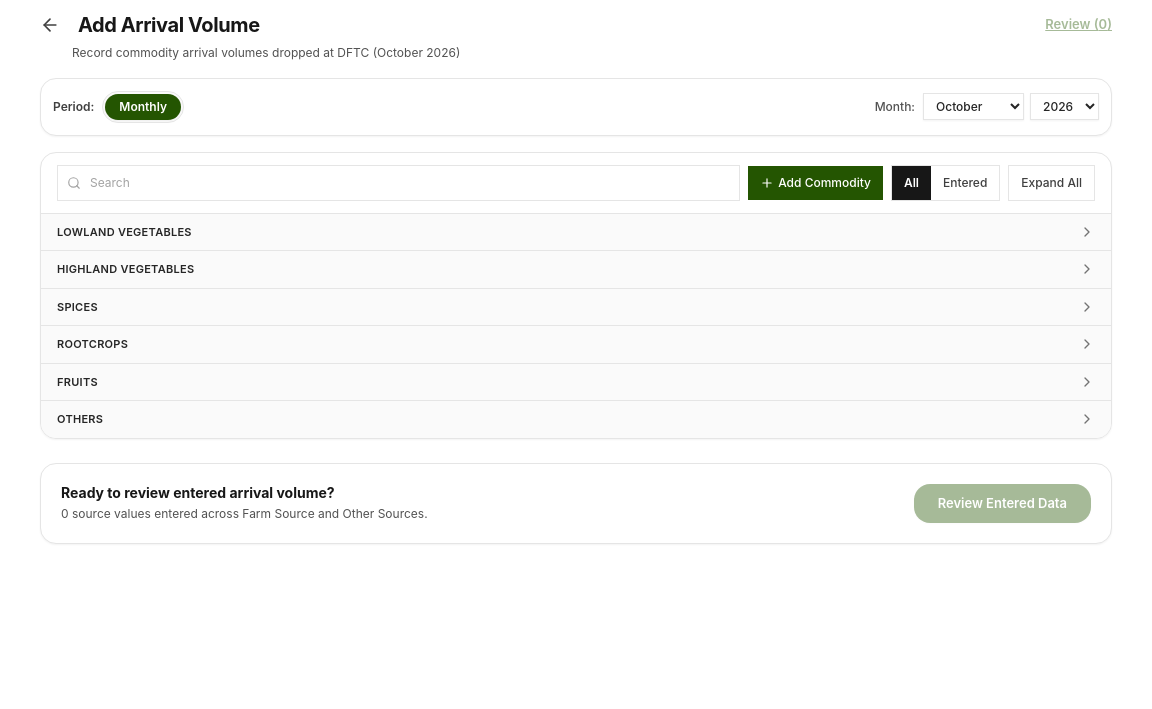
Test: DFTCArrivalInput Unified Entry & Excel-Aligned Review › counts filled source cells, not commodity rows, on the review summary
The width and height of the screenshot is (1152, 709).
Click the button "Lowland Vegetables". click: point(124, 232)
box: x1=41 y1=214 x2=1111 y2=250
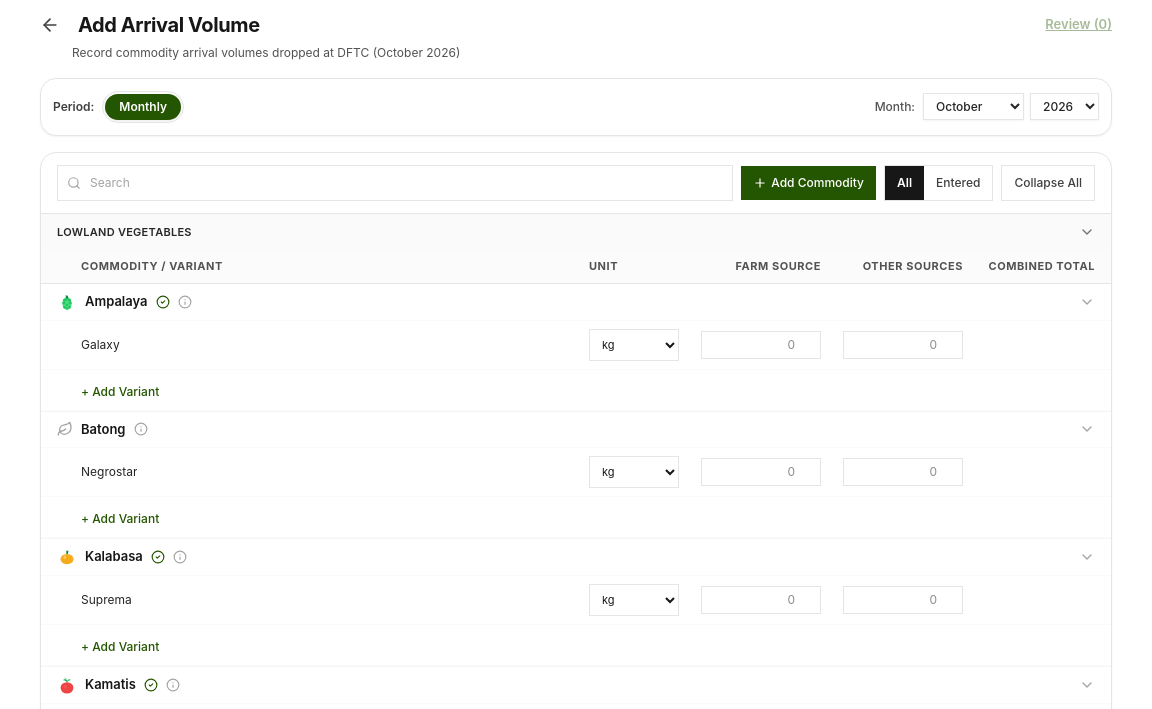
Type "1000" into the 1st number field with placeholder "0". click: point(761, 344)
box: x1=701 y1=330 x2=821 y2=358
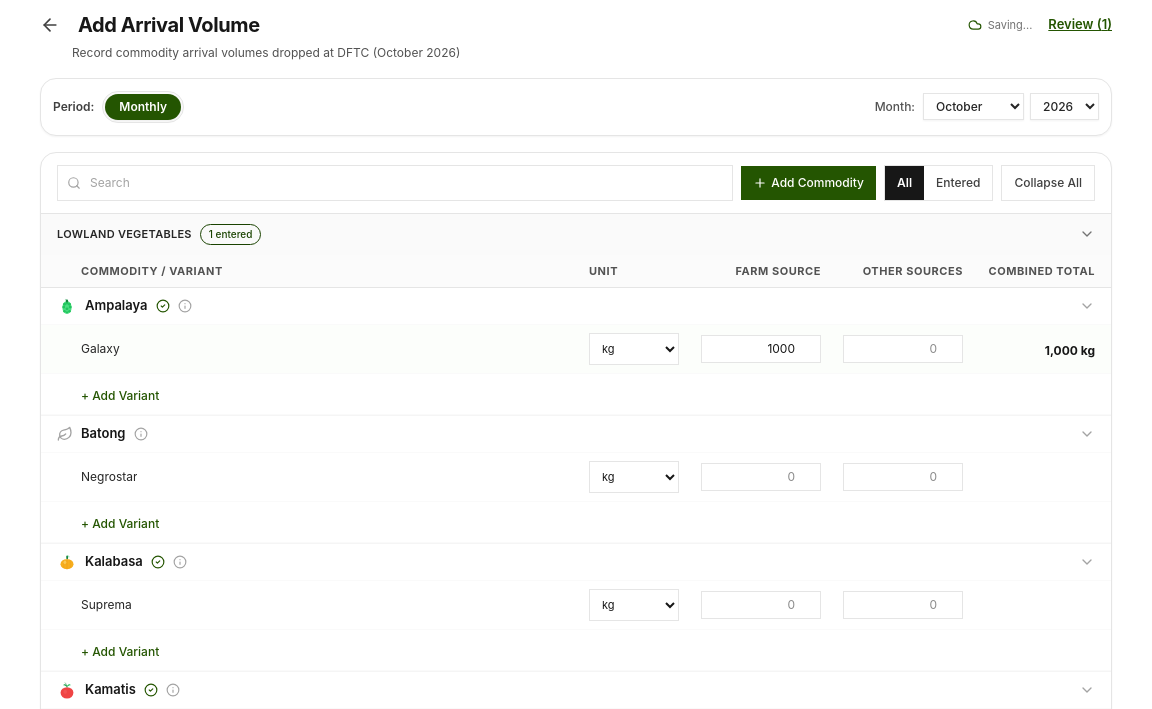
Type "500" into the number field with placeholder "0" next to "1,000 kg". click: point(903, 349)
box: x1=843 y1=335 x2=963 y2=363
(page scrolled)
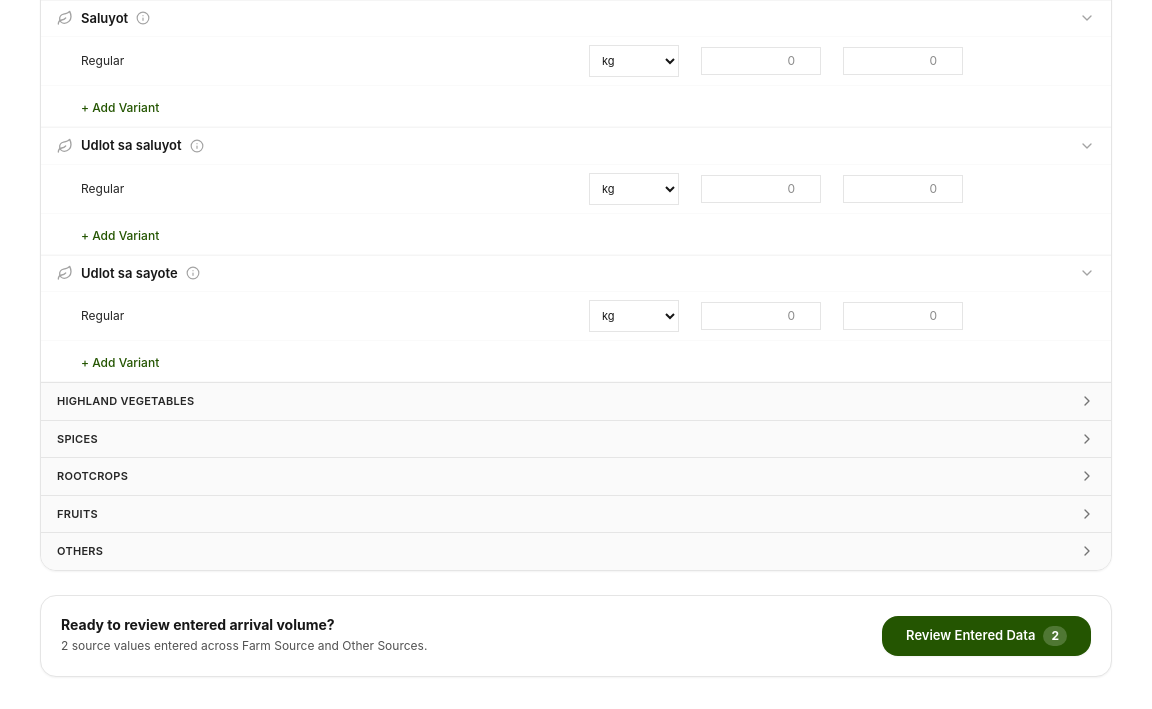
Click the button "Review Entered Data 2". click: point(987, 636)
box: x1=882 y1=616 x2=1091 y2=656
(page scrolled)
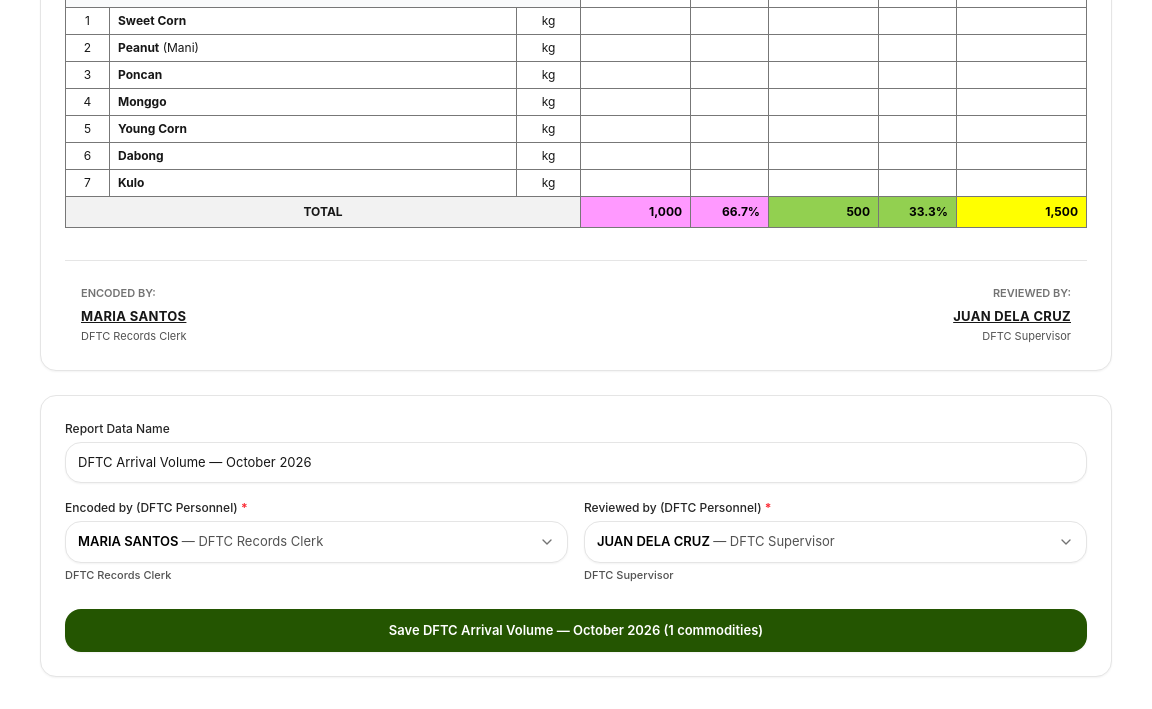
Expected: the button "Save DFTC Arrival Volume — October 2026 (1 commodities)" is shown, x1=65 y1=608 x2=1087 y2=652
